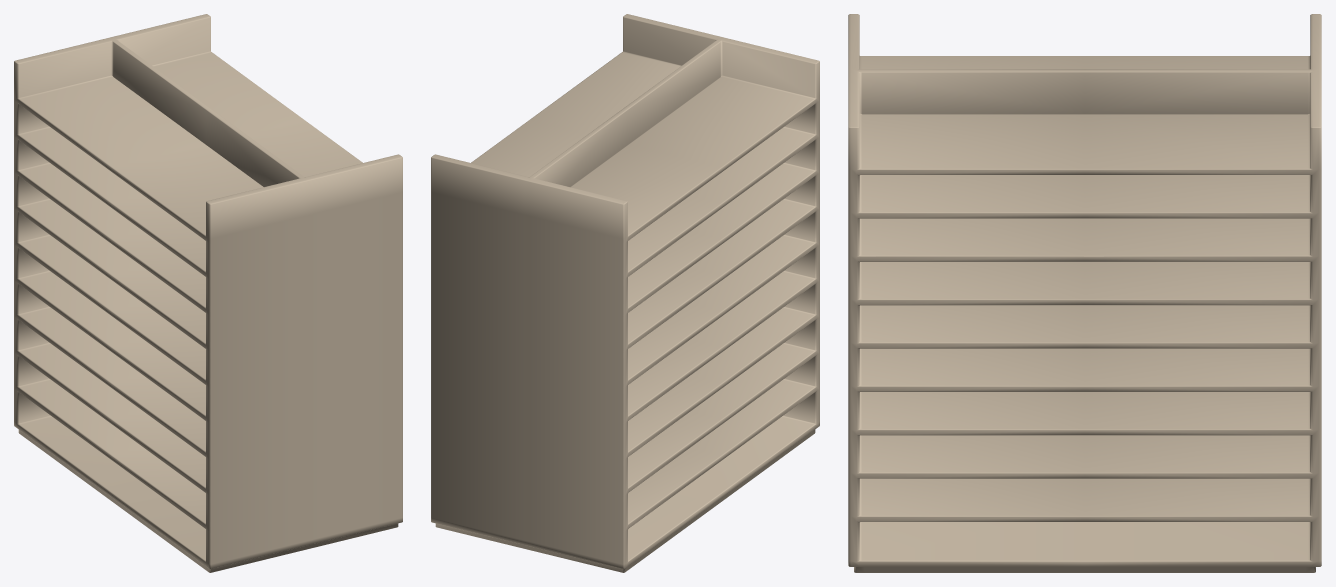
The model's file is Shelf10.fbx.
3 views of the same model, side by side, from view 1: azimuth 30°, elevation 25°; view 2: azimuth 150°, elevation 25°; view 3: azimuth 270°, elevation 25° (orthographic). The views are drawn at different scales.
Parts seen in each view (by area): view 1: Regal1_doppelseitig; view 2: Regal1_doppelseitig; view 3: Regal1_doppelseitig.
Part boxes in pixels (bbox=[...]): Regal1_doppelseitig: bbox=[14, 14, 402, 572]; Regal1_doppelseitig: bbox=[431, 14, 819, 572]; Regal1_doppelseitig: bbox=[848, 14, 1321, 572].
Size of the model in its own units: 532 by 976 by 936.
